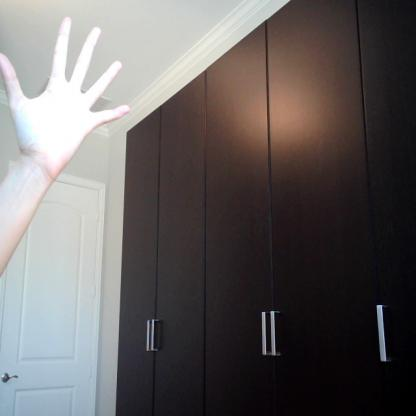five: (1, 14, 131, 181)
